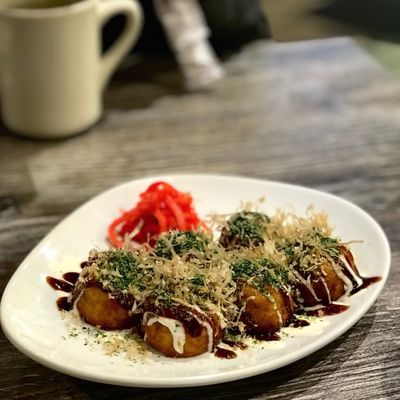curry: (152, 230, 209, 260)
pizza: (0, 0, 145, 141)
